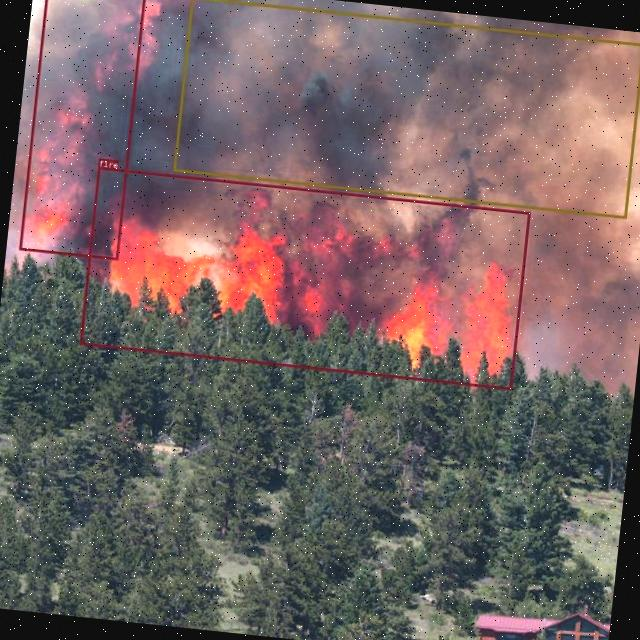fire: (78, 166, 530, 389), (18, 0, 145, 259)
smoke: (172, 0, 640, 218)
